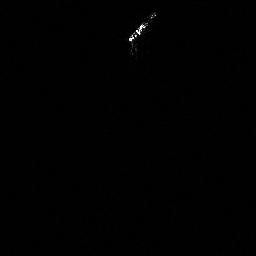ship: (124, 9, 159, 44)
